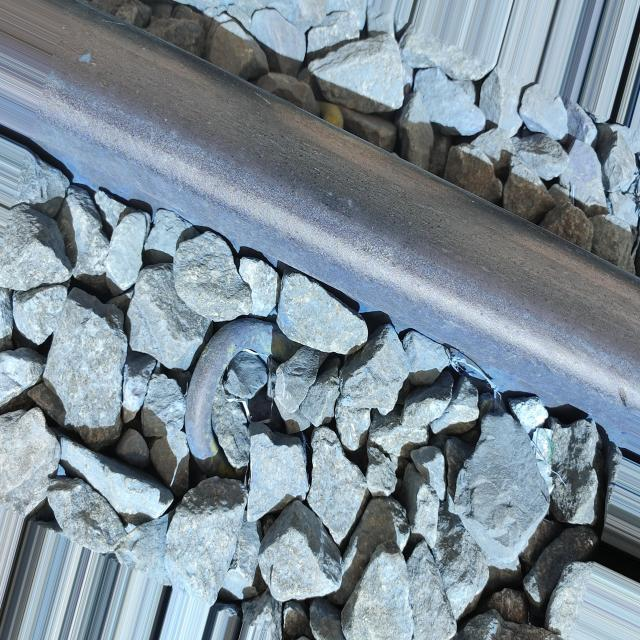Good Fasteners: (185, 317, 283, 476)
